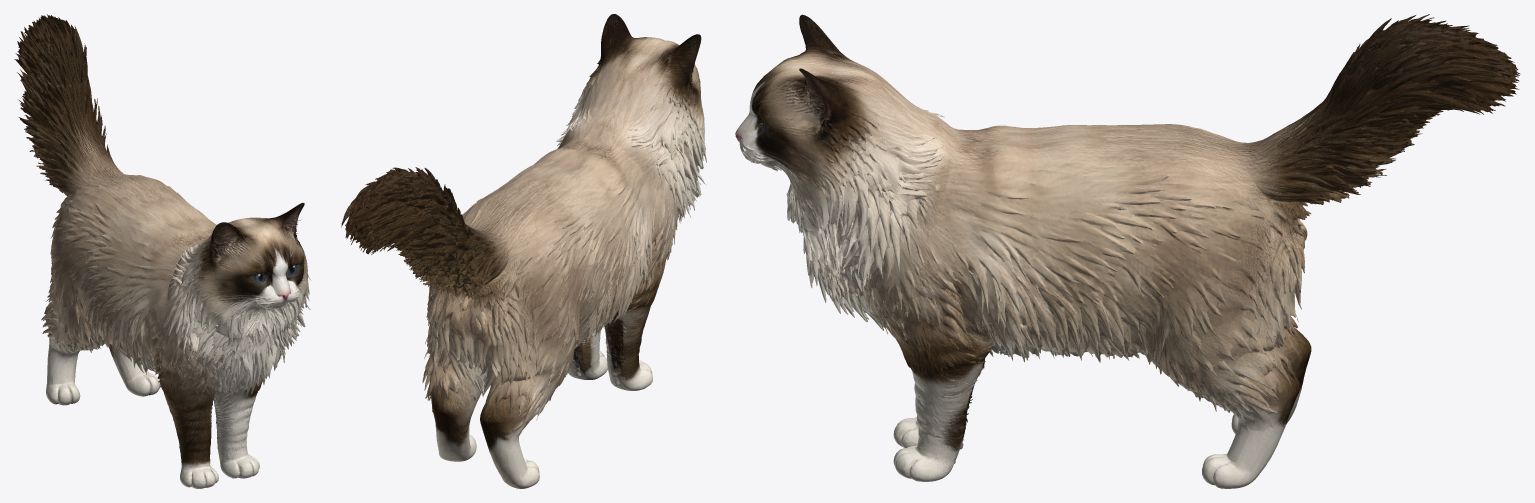
The model's file is mochi-longhair-hq-meshy.glb.
The picture shows the model from 3 angles, left to right: view 1: azimuth 30°, elevation 25°; view 2: azimuth 150°, elevation 25°; view 3: azimuth 270°, elevation 25°; orthographic projection. The views are drawn at different scales.
Parts seen in each view (by area): view 1: Mesh_0; view 2: Mesh_0; view 3: Mesh_0.
Boxes of the visible parts, x1,y1,x2,y2 form: Mesh_0: (14,14,311,488); Mesh_0: (341,14,706,488); Mesh_0: (735,14,1520,488).
Bounding box in the file's own units: 0.5124 × 1.2 × 1.89.
1 material, 1 textured.
